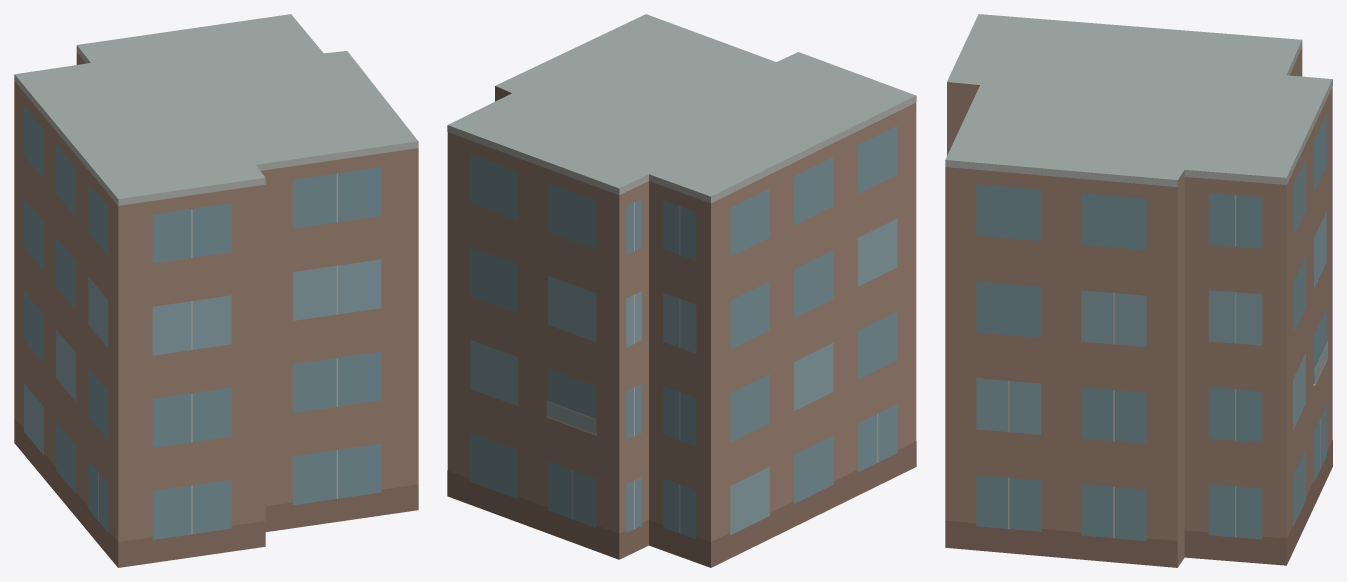
Rendered from survey-upis-32956608.glb.
The picture shows the model from 3 angles, left to right: view 1: azimuth 30°, elevation 25°; view 2: azimuth 150°, elevation 25°; view 3: azimuth 270°, elevation 25°; orthographic projection. The views are drawn at different scales.
Parts seen in each view (by area): view 1: survey-upis-32956608.tmp; view 2: survey-upis-32956608.tmp; view 3: survey-upis-32956608.tmp.
Part boxes in pixels (x1,y1,x2,y2): survey-upis-32956608.tmp: (14,14,418,567); survey-upis-32956608.tmp: (447,14,916,567); survey-upis-32956608.tmp: (945,14,1332,567).
Bounding box in the file's own units: 12.33 × 13.4 × 12.15.
